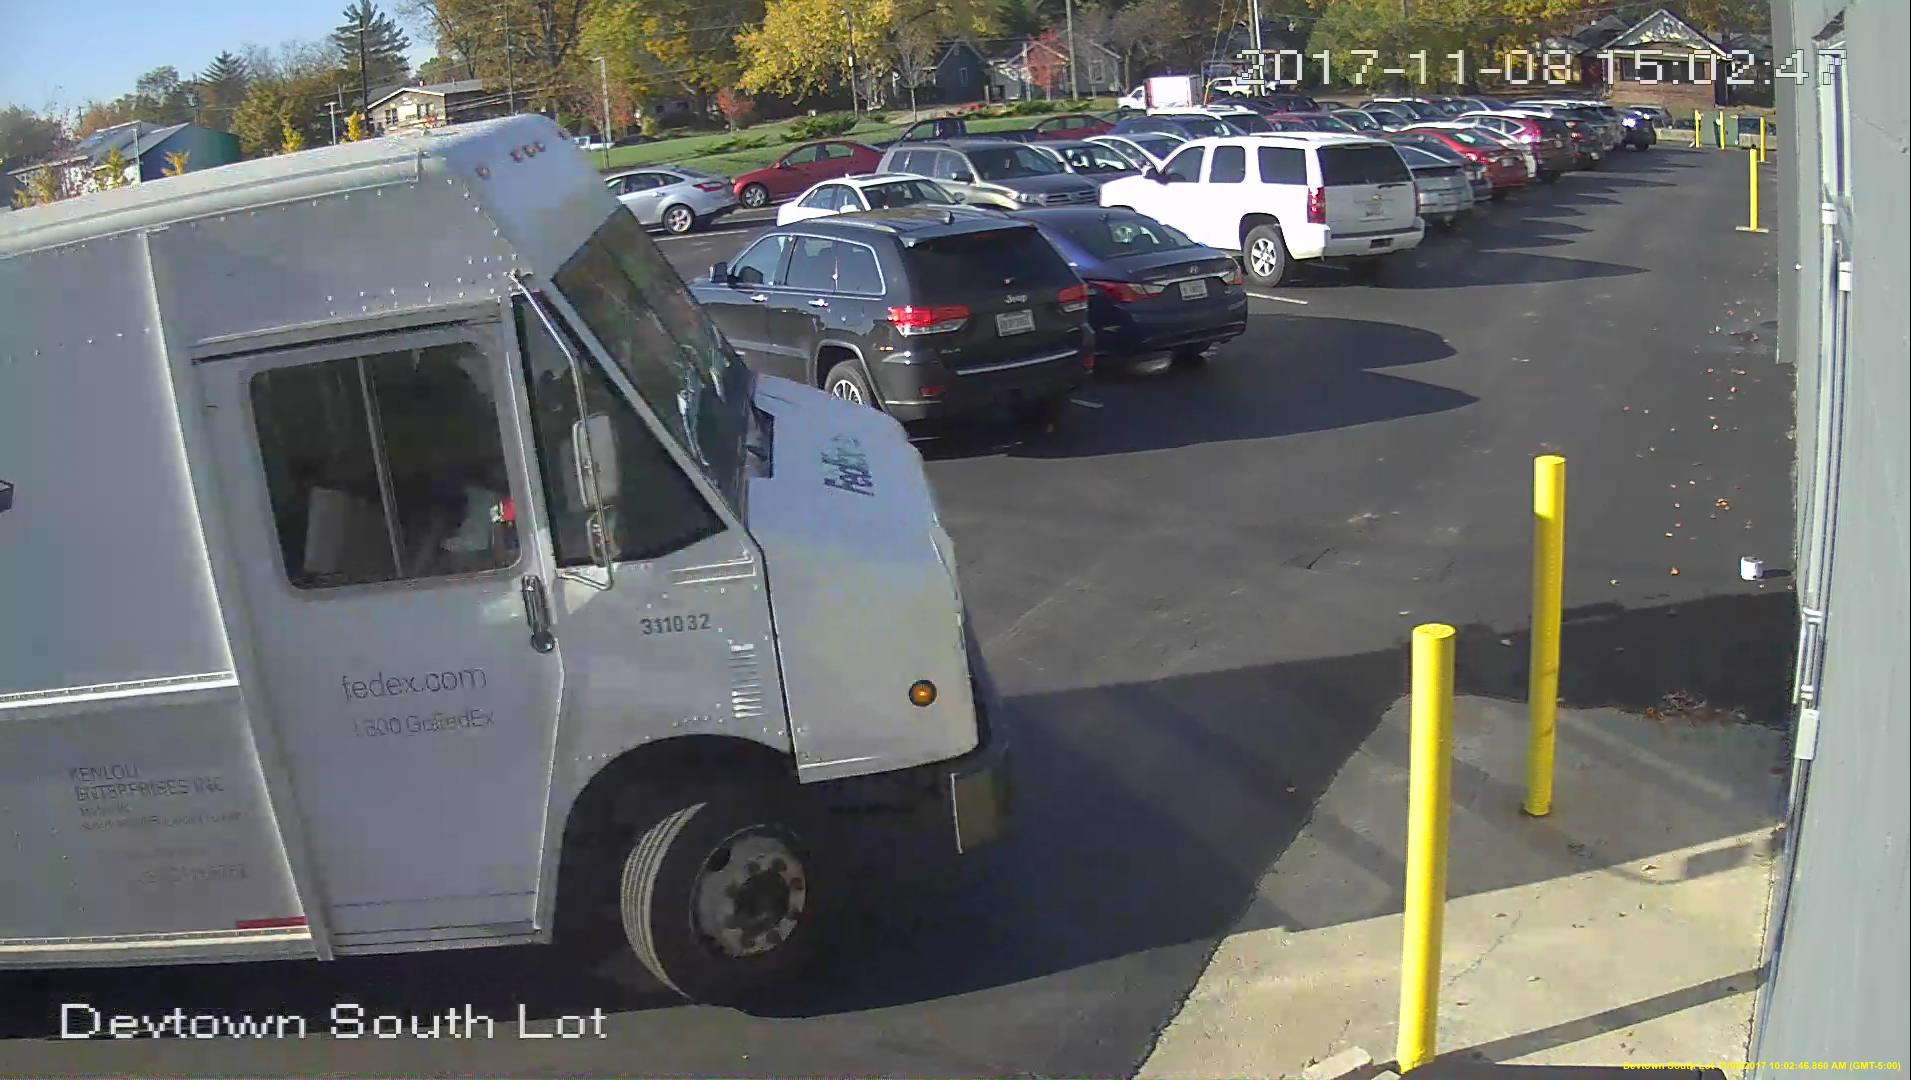fedex_truck: (3, 104, 1001, 993)
